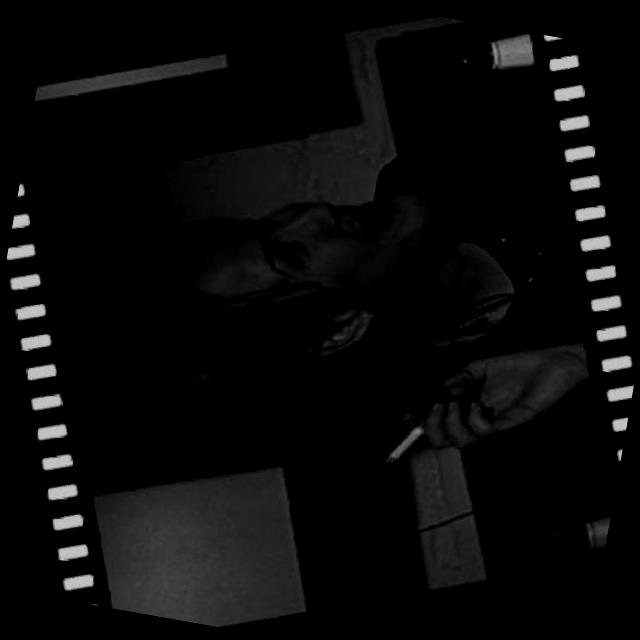cigarette: (364, 407, 441, 476)
